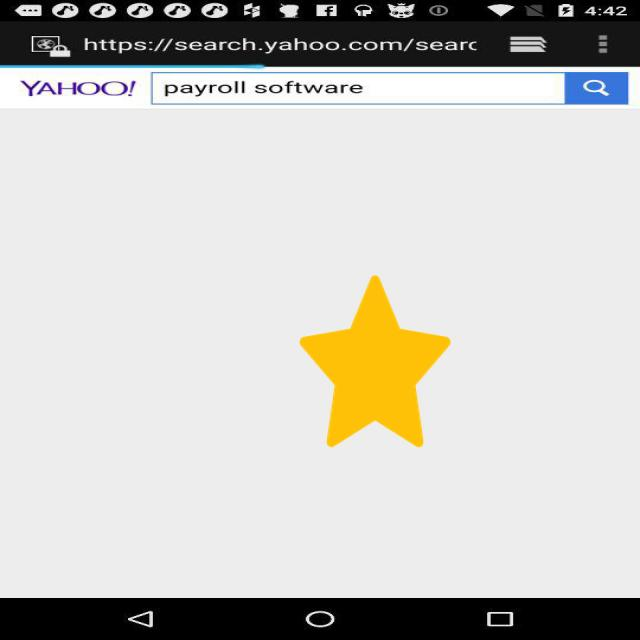forced continuity: (300, 276, 450, 448)
